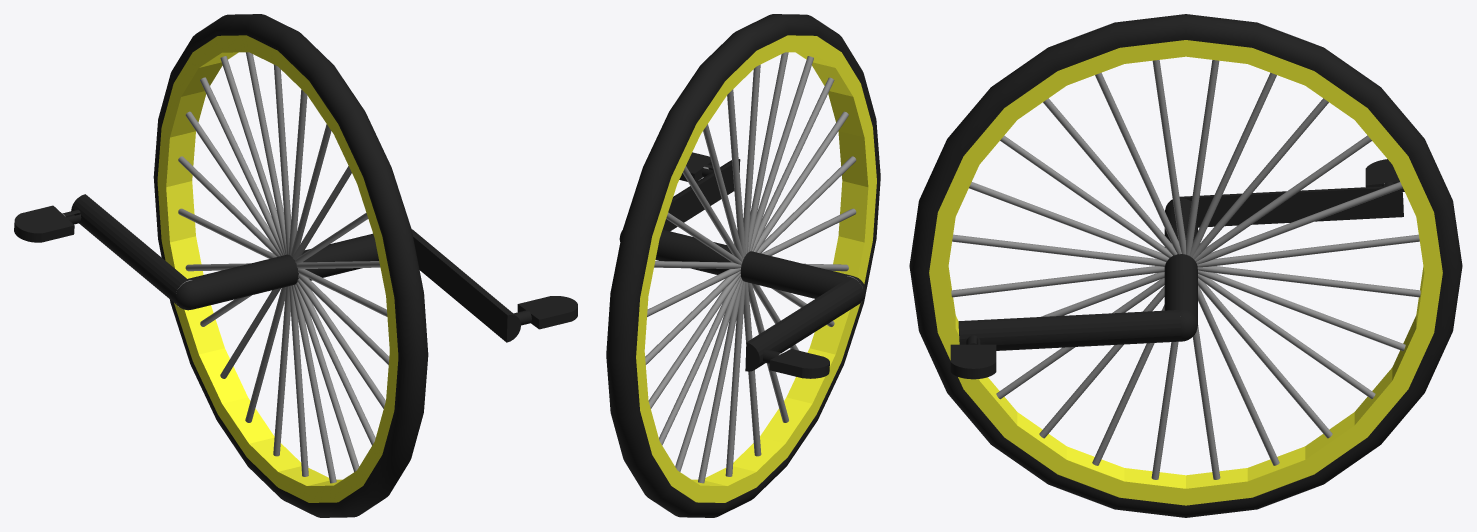
The model's file is bikewheel.dae.
The picture shows the model from 3 angles, left to right: view 1: azimuth 30°, elevation 25°; view 2: azimuth 150°, elevation 25°; view 3: azimuth 270°, elevation 25°; orthographic projection. The views are drawn at different scales.
Parts seen in each view (by area): view 1: group_0 (×8); view 2: group_0 (×9); view 3: group_0 (×8).
Boxes of the visible parts, x1=… form: group_0 (×8): x1=14, y1=14, x2=577, y2=517; group_0 (×9): x1=606, y1=14, x2=880, y2=517; group_0 (×8): x1=909, y1=14, x2=1462, y2=517.
Bounding box in the file's own units: 62.6 × 77.5 × 77.5.
